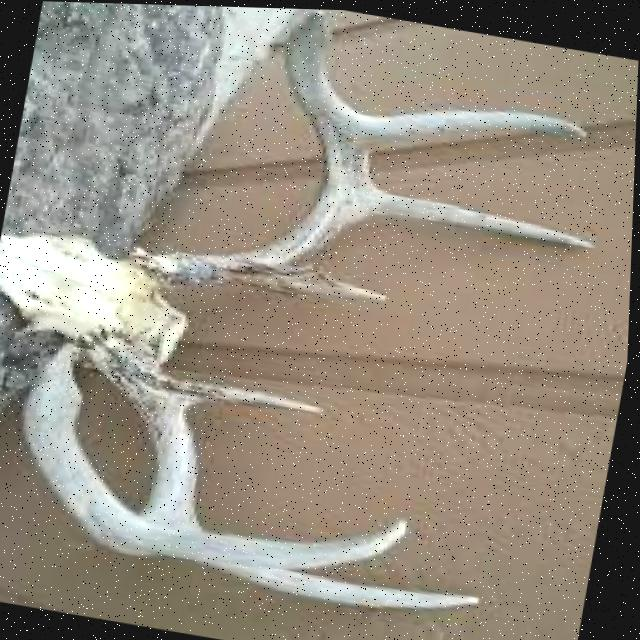L-G1: (166, 374, 326, 415)
L-G2: (195, 559, 485, 608)
L-G3: (123, 513, 414, 568)
R-F: (129, 9, 369, 287)
R-G1: (238, 252, 391, 299)
R-G2: (352, 175, 599, 246)
R-G3: (358, 105, 588, 154)
